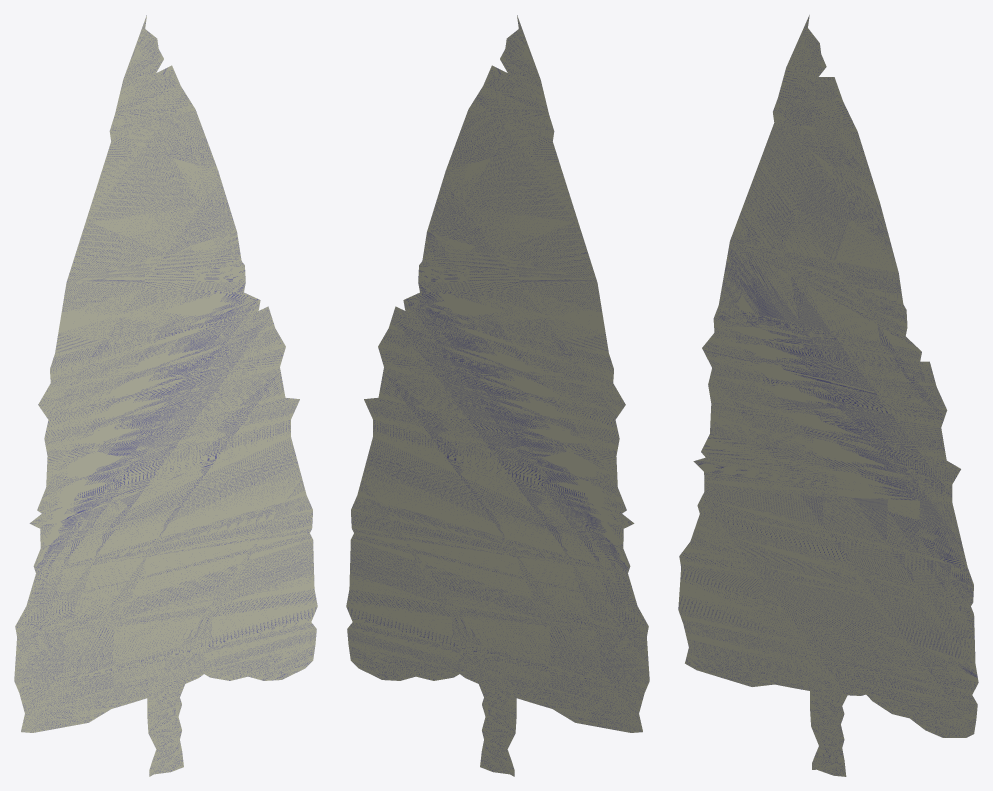
The model's file is spruce-tree.dae.
The picture shows the model from 3 angles, left to right: view 1: azimuth 30°, elevation 25°; view 2: azimuth 150°, elevation 25°; view 3: azimuth 330°, elevation 25°; orthographic projection.
Visible parts, largest first — view 1: SketchUp; view 2: SketchUp; view 3: SketchUp.
Boxes of the visible parts, box(x1,y1,x2,y2) form: SketchUp: box(14, 15, 317, 776); SketchUp: box(346, 15, 649, 776); SketchUp: box(678, 15, 978, 776).
Size of the model in its own units: 150 by 0 by 360.
